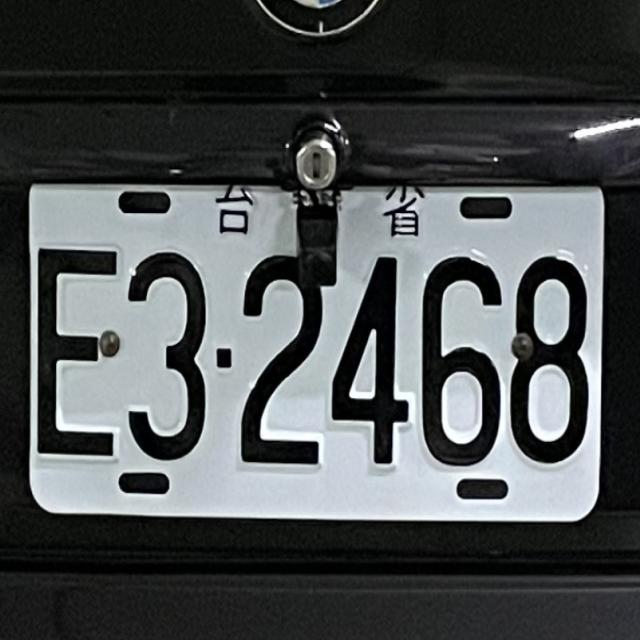license-plate: (26, 160, 613, 531)
